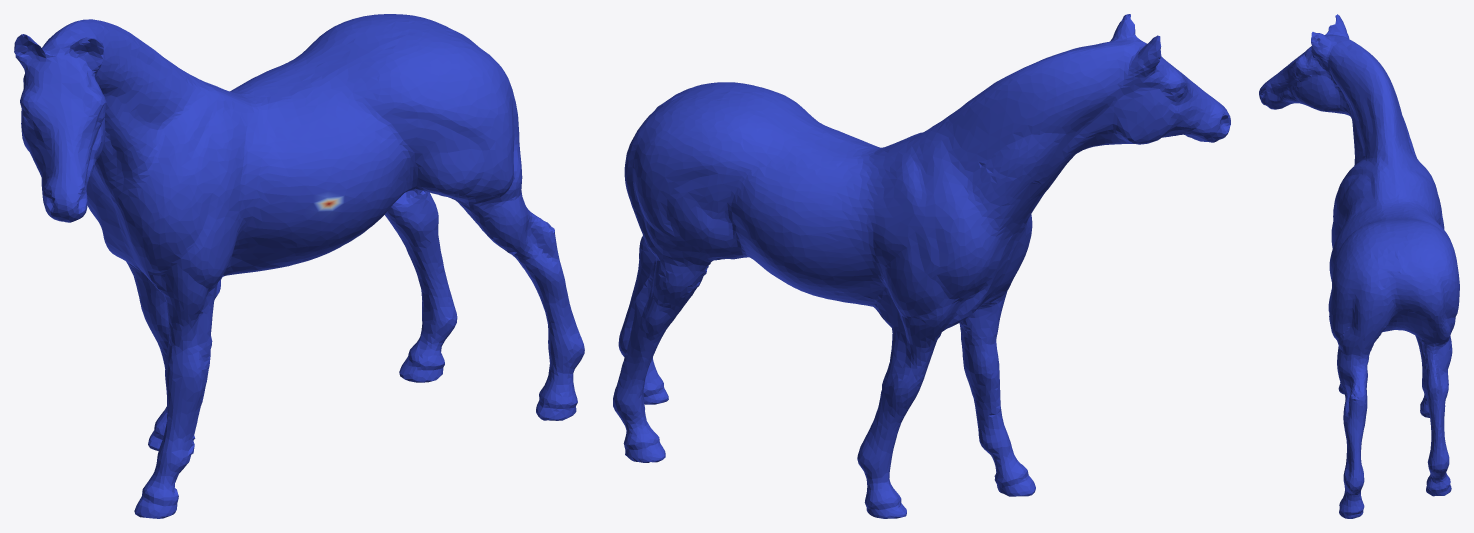
The model's file is gamma1e-05.obj.
3 renders of one model, left to right at view 1: azimuth 30°, elevation 25°; view 2: azimuth 150°, elevation 25°; view 3: azimuth 270°, elevation 25°, orthographic. The views are drawn at different scales.
Bounding box in the file's own units: 0.1834 × 0.1529 × 0.084.
1 material, 1 textured.
